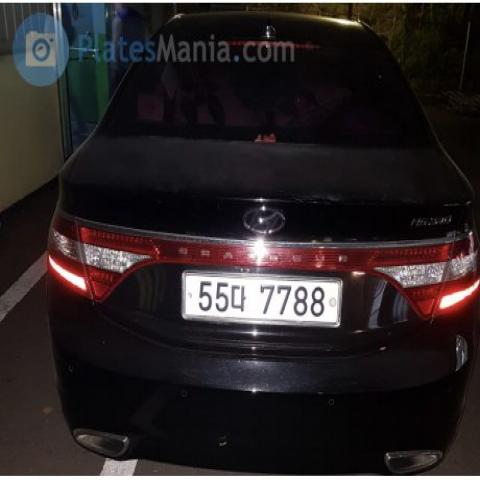LP: (175, 260, 352, 332)
